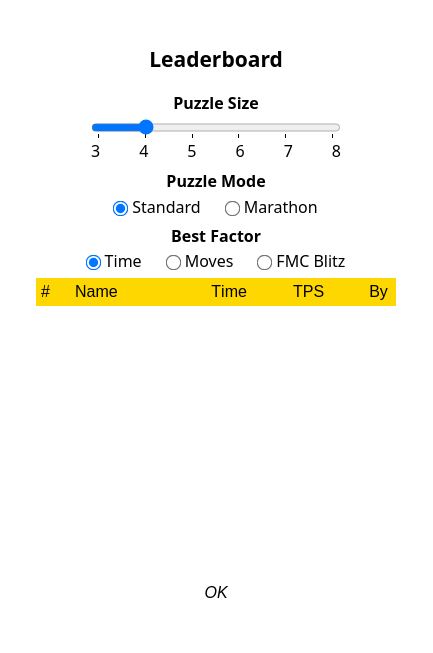
it: LeaderBoard › filteredRecords / sortSingleRecords › renders fmc blitz moves and its computed time-per-move column
The width and height of the screenshot is (433, 653).
Click the text "FMC Blitz" at (311, 261), box x1=276 y1=249 x2=345 y2=273
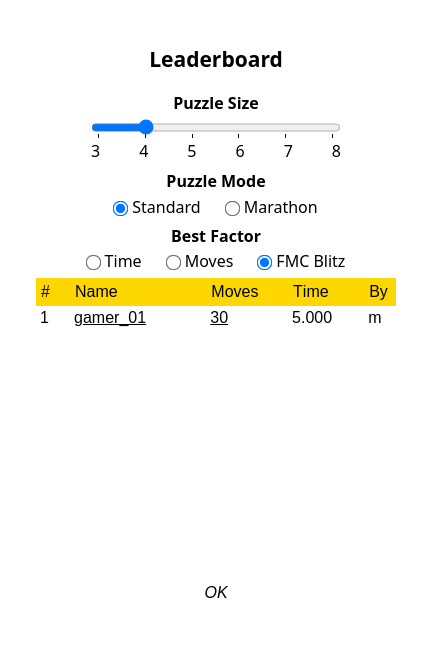
expect the cell with class "link-item" reads "30": met, box x1=210 y1=309 x2=228 y2=326
expect the cell "5.000" is shown: met, box x1=288 y1=306 x2=364 y2=330
